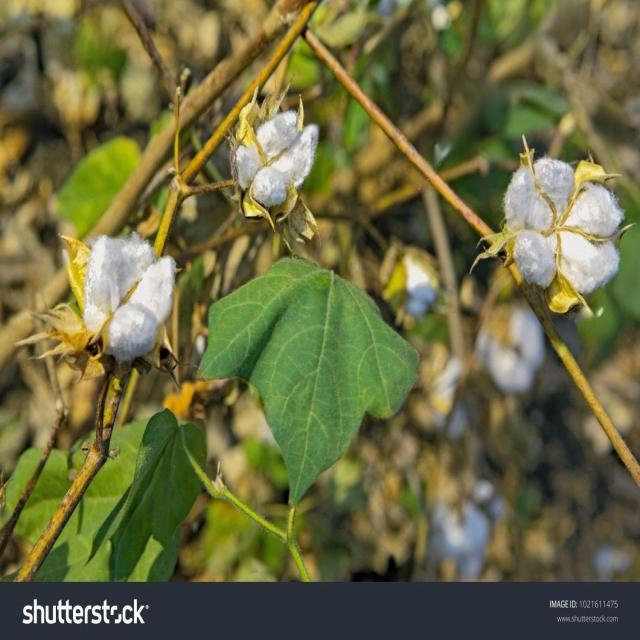Early_blight: (506, 156, 621, 306), (81, 239, 178, 358), (231, 115, 318, 212)
